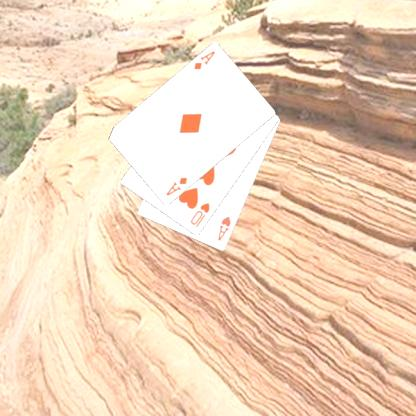10H: (188, 200, 212, 229)
AD: (163, 174, 189, 198), (191, 48, 216, 71)
AH: (215, 213, 232, 243)
